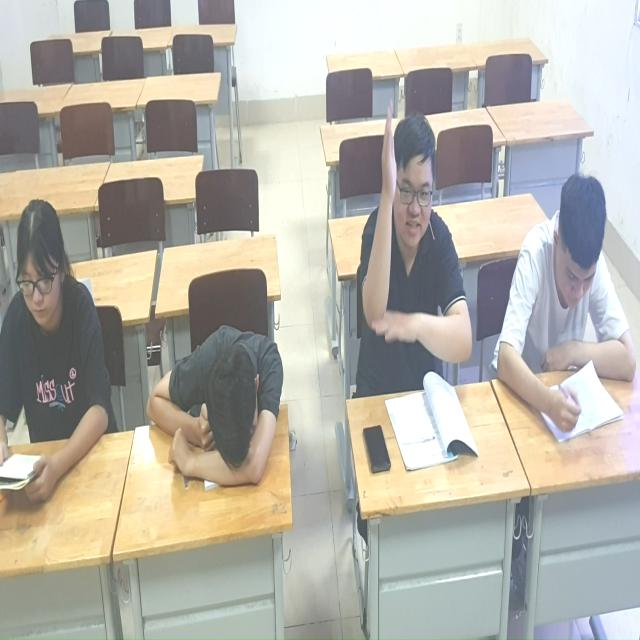raise_hand: (354, 99, 475, 427)
read: (486, 156, 635, 438), (1, 195, 115, 515)
sleep: (146, 282, 296, 511)
